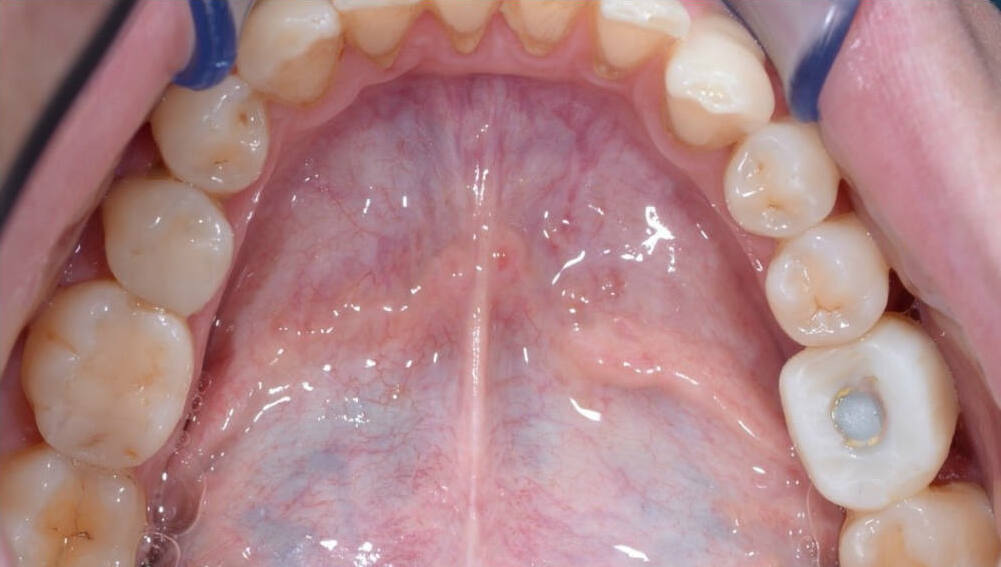UL1BC_decay: (721, 120, 837, 240)
UL1M_decay: (778, 320, 953, 513)
UL2BC_decay: (763, 225, 885, 350)
UL2M_healthy: (829, 481, 999, 565)
ULCI_decay: (501, 1, 581, 54)
ULC_healthy: (665, 20, 771, 153)
ULLI_healthy: (592, 1, 688, 67)
UR1BC_decay: (157, 80, 269, 196)
UR1M_decay: (21, 280, 191, 468)
UR2BC_healthy: (103, 183, 234, 312)
UR2M_decay: (1, 445, 150, 565)
URCI_decay: (438, 1, 495, 56)
URC_healthy: (240, 1, 343, 109)
URLI_decay: (340, 1, 420, 66)
